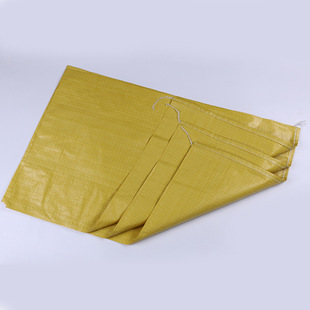Parcel: (3, 66, 298, 244)
